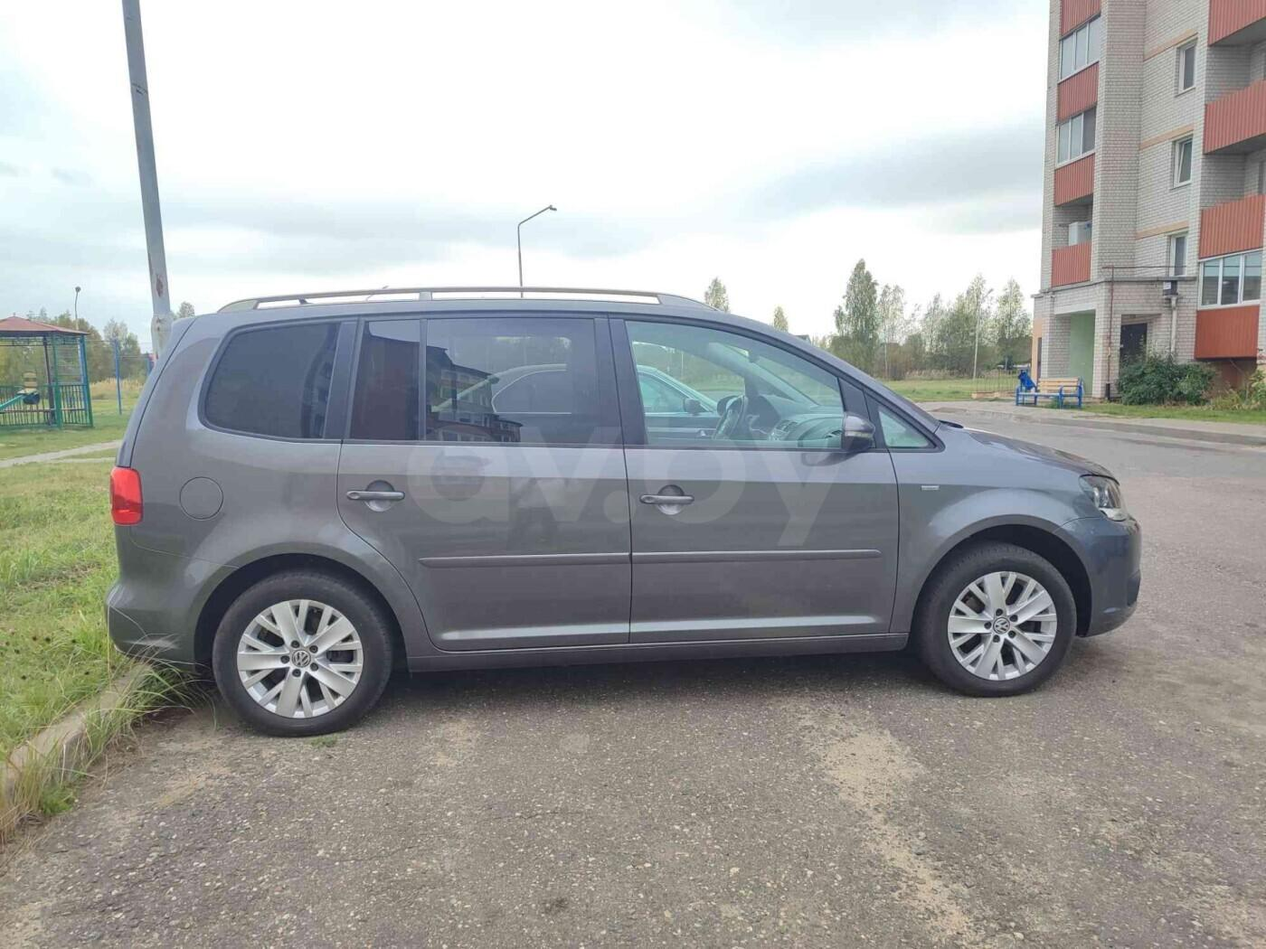Touran_2010-2015: (94, 293, 1146, 717)
